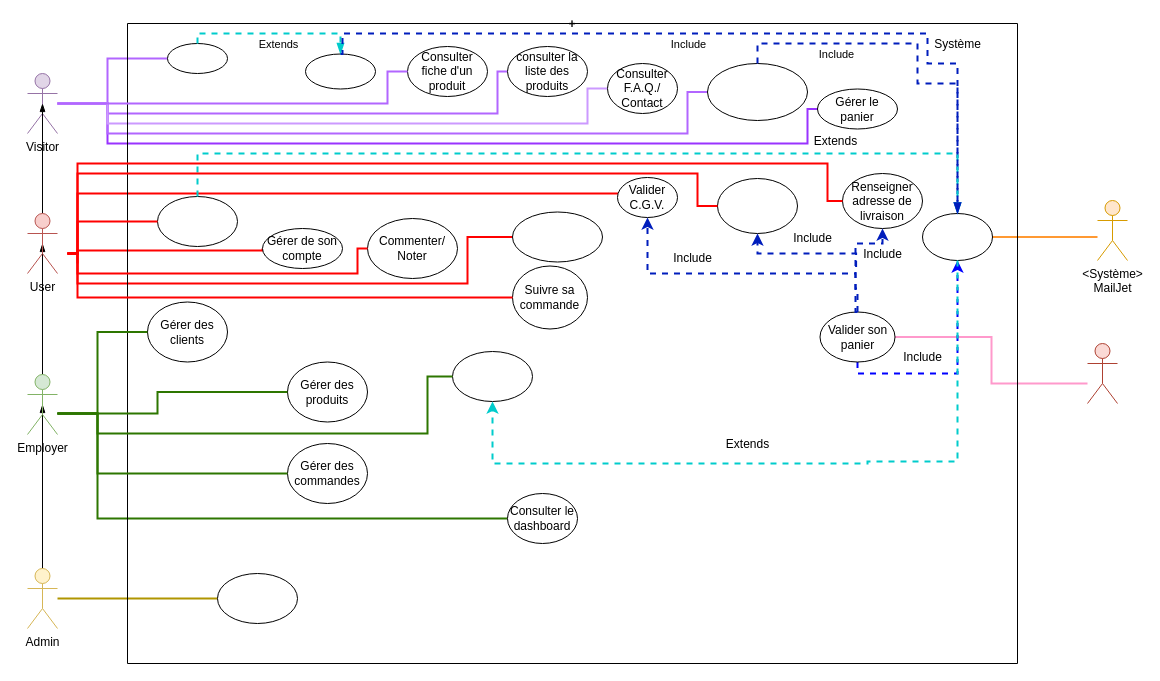
Some shapes in this 1160 by 681 pixel diagram are drawn without their labels. The centre of each missing label's shape, as x and y in pixels:
<Systeme> Stripe: pixel 1102 373
Consulter l'historique des commandes: pixel 557 236
Contacter le service gestion/ commercial: pixel 757 91
Envoyer un email: pixel 957 236
Gérer la liste des messages: pixel 492 376
Gérer les employés: pixel 257 598
Inscription: pixel 340 71
Login: pixel 197 58
Renseigner moyen de paiement: pixel 757 206
S'abonner aux News Letter: pixel 197 221
